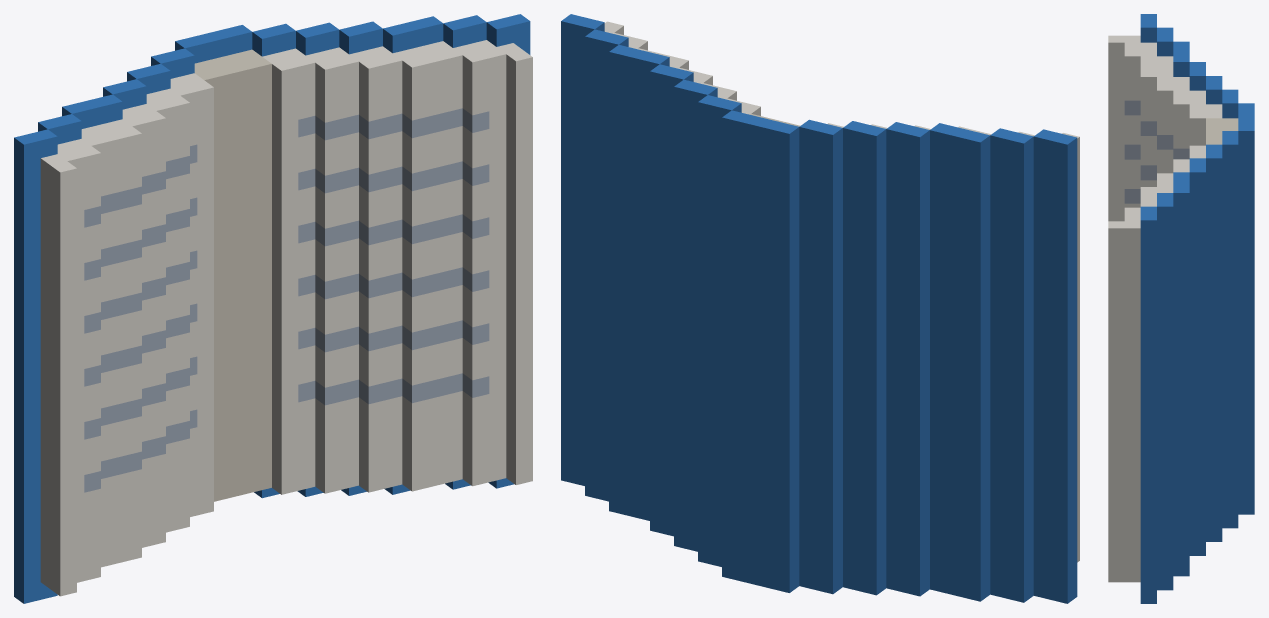
Rendered from open-book.glb.
3 renders of one model, left to right at view 1: azimuth 30°, elevation 25°; view 2: azimuth 150°, elevation 25°; view 3: azimuth 270°, elevation 25°, orthographic. The views are drawn at different scales.
Visible parts, largest first — view 1: prop; view 2: prop; view 3: prop.
Part boxes in pixels (x1,y1,x2,y2): prop: (14,14,532,603); prop: (561,14,1079,603); prop: (1108,14,1254,603).
Size of the model in its own units: 15 by 13 by 4.5.
